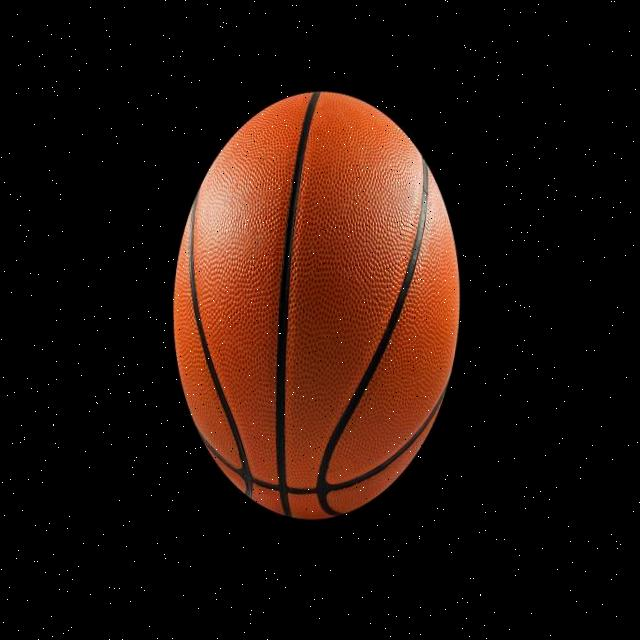Basketball: (166, 91, 464, 518)
